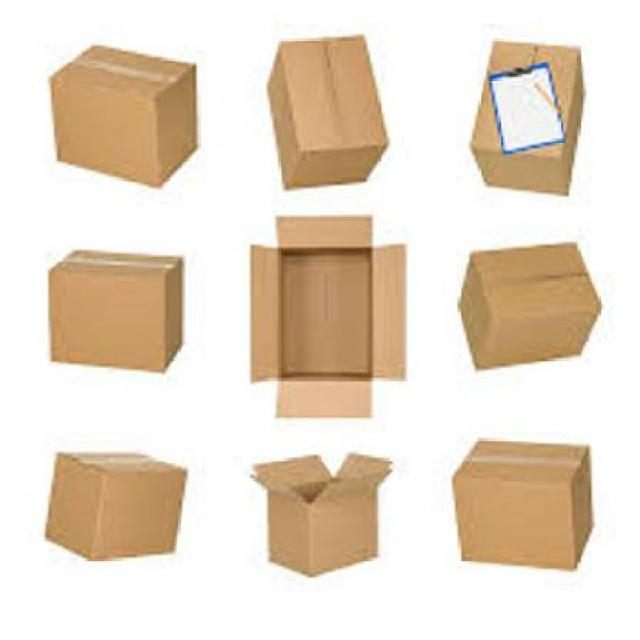defect: (242, 214, 418, 421), (237, 450, 401, 596)
normal: (451, 242, 626, 382), (48, 40, 208, 189), (448, 431, 609, 574), (40, 248, 208, 378), (263, 32, 395, 194), (42, 449, 198, 563)
